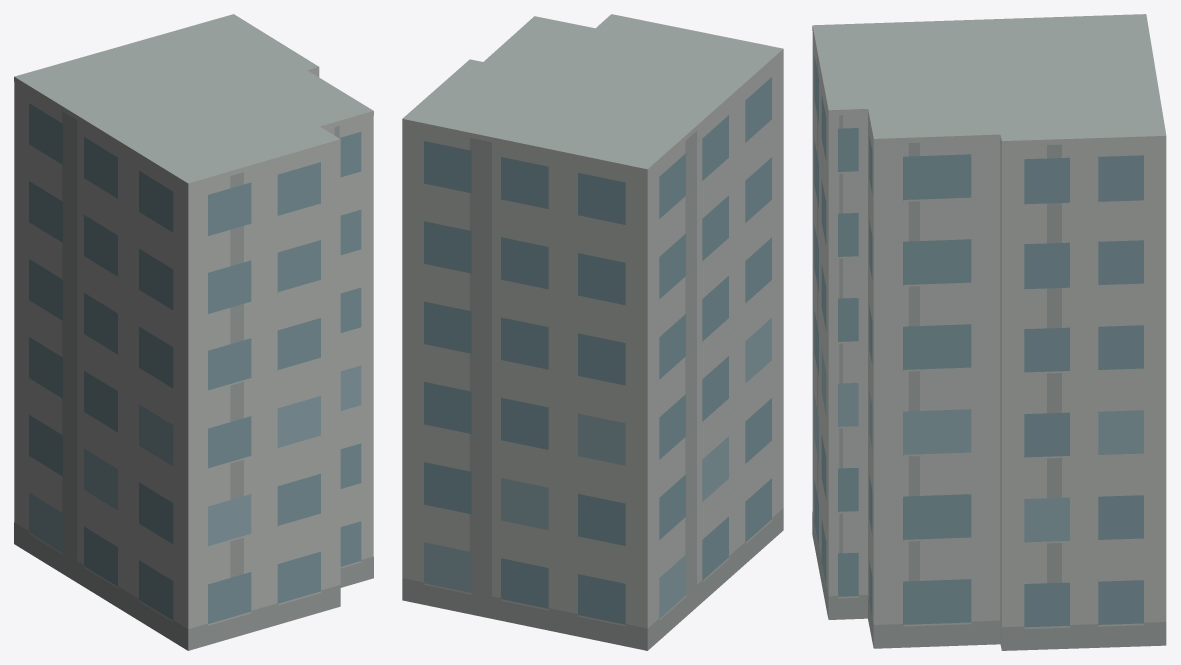
File: survey-upis-32944934.glb
The picture shows the model from 3 angles, left to right: view 1: azimuth 30°, elevation 25°; view 2: azimuth 150°, elevation 25°; view 3: azimuth 270°, elevation 25°; orthographic projection. The views are drawn at different scales.
Parts seen in each view (by area): view 1: survey-upis-32944934.tmp; view 2: survey-upis-32944934.tmp; view 3: survey-upis-32944934.tmp.
Boxes of the visible parts, box(x1,y1,x2,y2) form: survey-upis-32944934.tmp: box(14, 14, 373, 650); survey-upis-32944934.tmp: box(402, 14, 783, 650); survey-upis-32944934.tmp: box(812, 14, 1166, 650).
Size of the model in its own units: 12.36 by 23.1 by 14.55.
